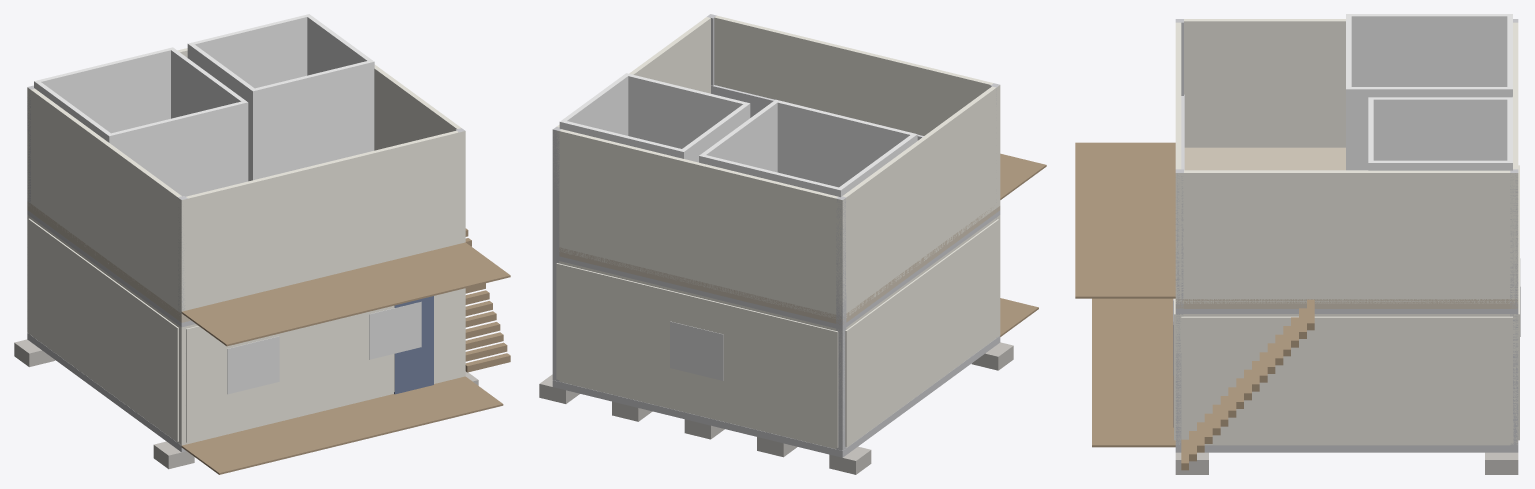
Rendered from Duplex-20-Base-IvoryWhite-LOD3.glb.
The picture shows the model from 3 angles, left to right: view 1: azimuth 30°, elevation 25°; view 2: azimuth 150°, elevation 25°; view 3: azimuth 270°, elevation 25°; orthographic projection. The views are drawn at different scales.
Parts seen in each view (by area): view 1: ExteriorShellUpper, ExteriorPanelsStandard, StudyUpper, BedroomUpper, BalconyUpper, BalconyGround, WindowsStandard, StaircaseExternal, ExteriorShell, EntryDoor, FoundationBlocks, FloorUpper (+3 smaller); view 2: ExteriorShellUpper, ExteriorPanelsStandard, BedroomUpper, StudyUpper, FloorUpper, VerticalStructure, FoundationBlocks, BaseFrame, ExteriorShell, WindowsStandard, TopFrame, BalconyUpper (+2 smaller); view 3: ExteriorShellUpper, ExteriorPanelsStandard, BalconyUpper, BedroomUpper, BalconyGround, StudyUpper, FloorUpper, StaircaseExternal, ExteriorShell, VerticalStructure, BaseFrame, TopFrame (+1 smaller).
Boxes of the visible parts, x1,y1,x2,y2 form: ExteriorShellUpper: (27,48,465,315); ExteriorPanelsStandard: (28,218,461,442); StudyUpper: (187,14,374,181); BedroomUpper: (34,47,248,196); BalconyUpper: (181,242,510,346); BalconyGround: (181,376,503,474); WindowsStandard: (227,301,421,394); StaircaseExternal: (465,228,510,372); ExteriorShell: (27,214,465,445); EntryDoor: (394,296,433,394); FoundationBlocks: (14,339,478,469); FloorUpper: (27,201,190,322); ExteriorShellUpper: (553,15,1000,320); ExteriorPanelsStandard: (556,219,999,447); BedroomUpper: (699,99,917,197); StudyUpper: (559,73,750,162); FloorUpper: (559,206,1000,324); VerticalStructure: (552,14,999,450); FoundationBlocks: (539,342,1013,474); BaseFrame: (552,336,1000,457); ExteriorShell: (559,215,1000,448); WindowsStandard: (670,321,723,380); TopFrame: (559,210,1000,329); BalconyUpper: (1000,153,1046,199); ExteriorShellUpper: (1175,19,1518,303); ExteriorPanelsStandard: (1174,165,1519,443); BalconyUpper: (1075,142,1175,298); BedroomUpper: (1346,14,1512,170); BalconyGround: (1092,298,1175,447); StudyUpper: (1368,97,1512,170); FloorUpper: (1176,147,1518,308); StaircaseExternal: (1181,299,1314,470); ExteriorShell: (1175,314,1518,445); VerticalStructure: (1175,19,1518,445); BaseFrame: (1175,445,1518,452); TopFrame: (1175,309,1518,313).
Size of the model in its own units: 7.94 by 6 by 8.
